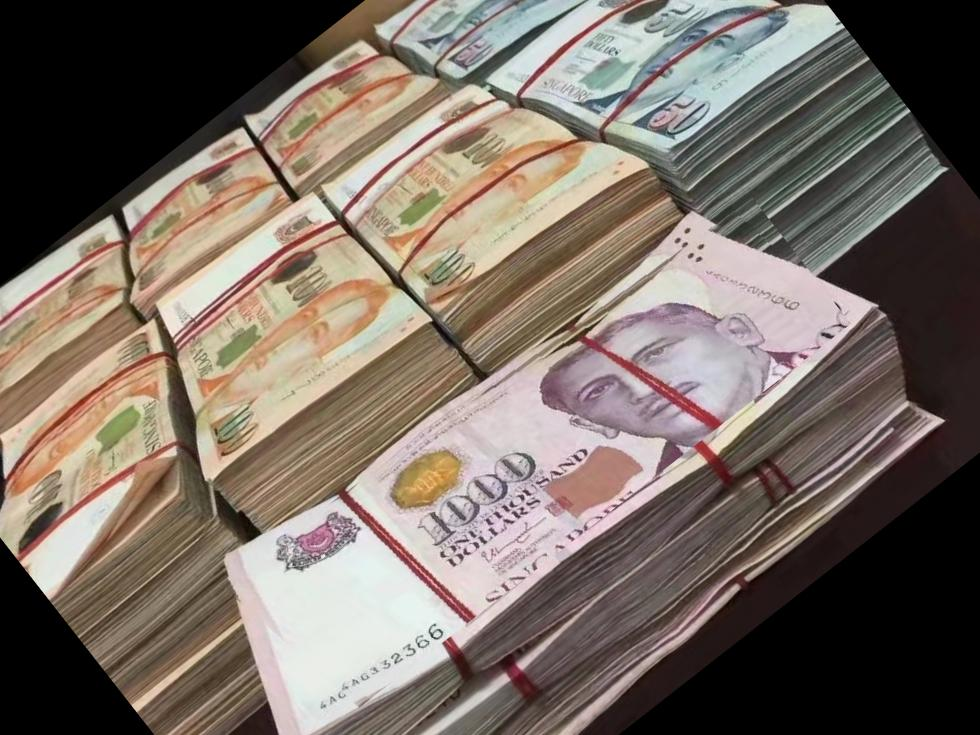1000SingaporeDollar: (220, 178, 852, 728)
